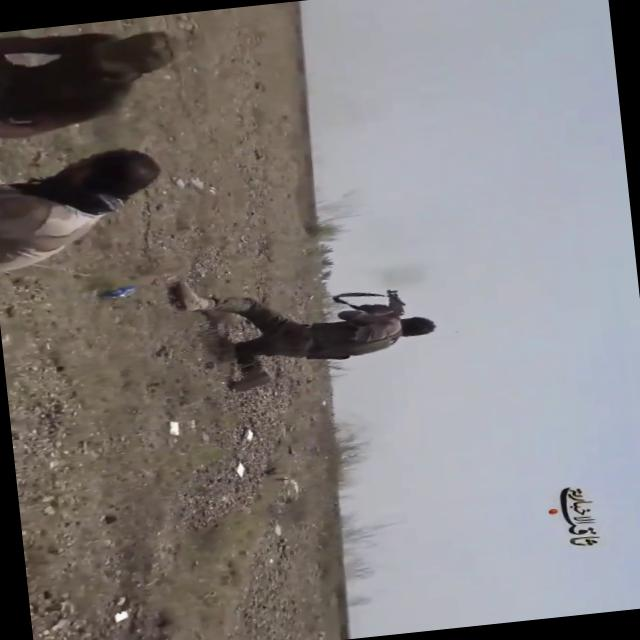long weapon: (366, 280, 414, 320)
